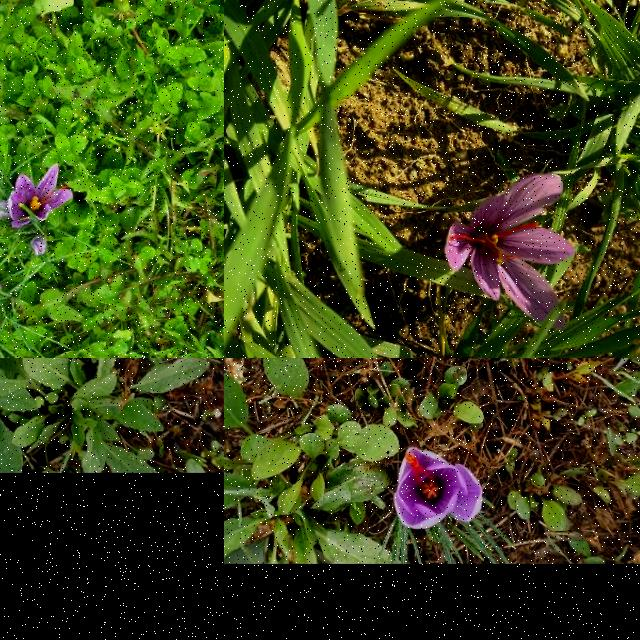flower: (445, 174, 575, 328), (394, 448, 484, 530), (8, 164, 74, 230), (32, 237, 48, 256)
